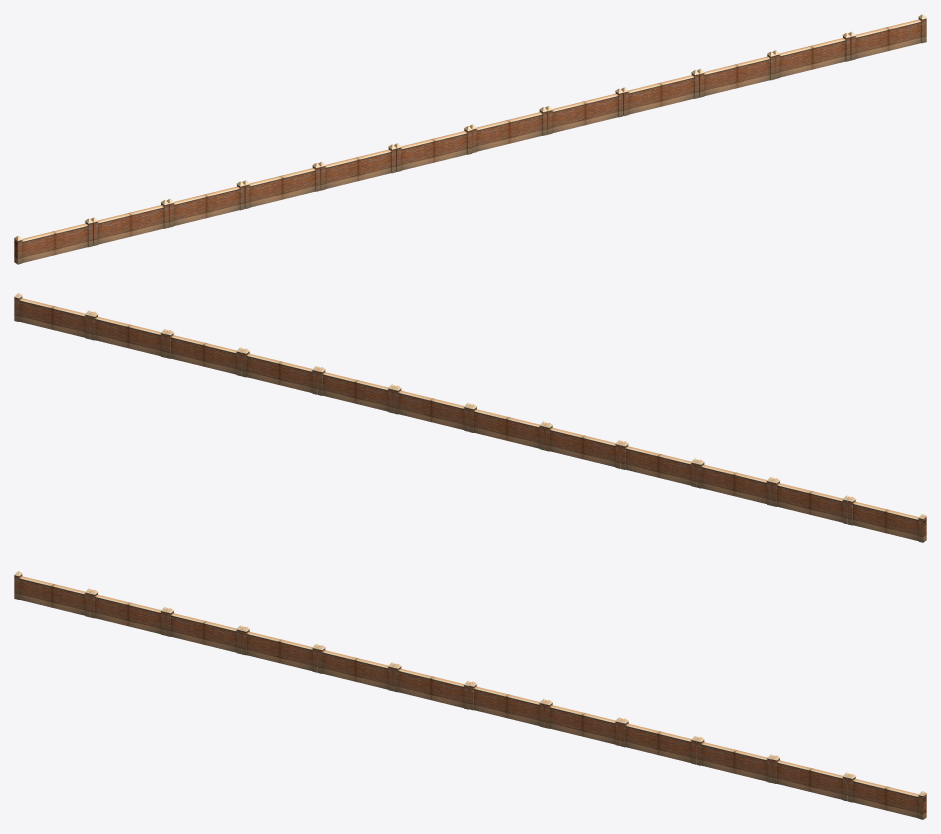
File: wall.fbx
The picture shows the model from 3 angles, top to bottom: view 1: azimuth 30°, elevation 25°; view 2: azimuth 150°, elevation 25°; view 3: azimuth 330°, elevation 25°; orthographic projection.
Parts seen in each view (by area): view 1: Wall0_x0020_30; view 2: Wall0_x0020_30; view 3: Wall0_x0020_30.
Part boxes in pixels (bbox=[...]): Wall0_x0020_30: bbox=[14, 14, 926, 264]; Wall0_x0020_30: bbox=[14, 293, 926, 542]; Wall0_x0020_30: bbox=[14, 571, 926, 819].
Size of the model in its own units: 32023 by 916 by 249.
1 material, 1 textured.
